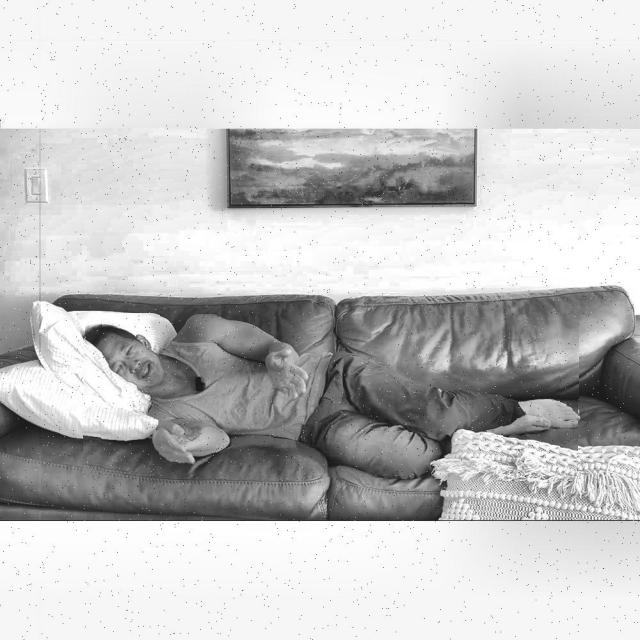Not_Supine: (85, 314, 578, 478)
